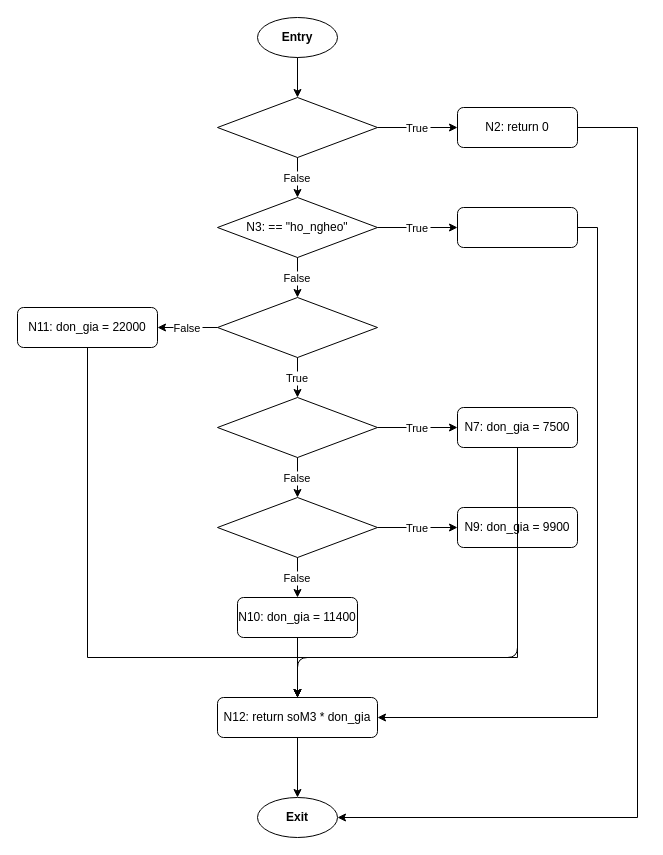
The diagram is 663 pixels wide and 855 high, and some of its shapes have lost their labels. The shapes that lost their labels are listed below. From the top down, each one's centre as x and y in pixels, then its label:
(x=297, y=127): N1: soM3 <= 0
(x=517, y=227): N4: don_gia = 5000
(x=297, y=327): N5: == "dan_cu"
(x=297, y=427): N6: soM3 <= 10
(x=297, y=527): N8: soM3 <= 20
